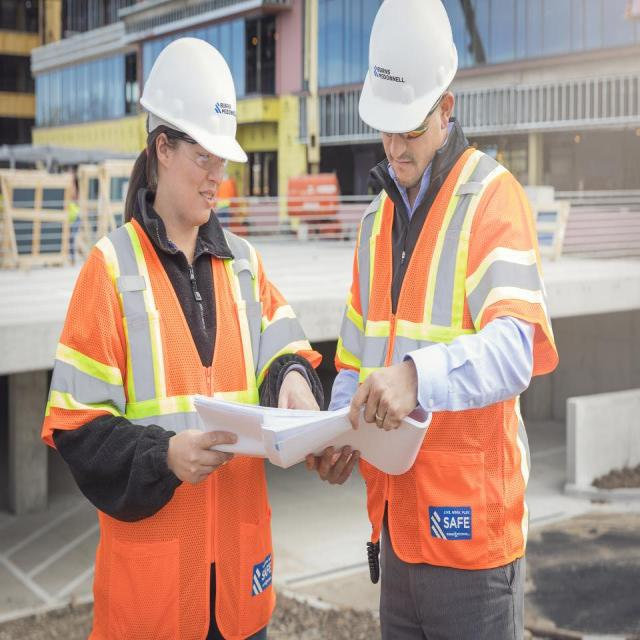Reflective-Jacket: (52, 216, 283, 637), (337, 150, 547, 570)
Safety-Helmet: (136, 33, 251, 165), (355, 0, 462, 137)
